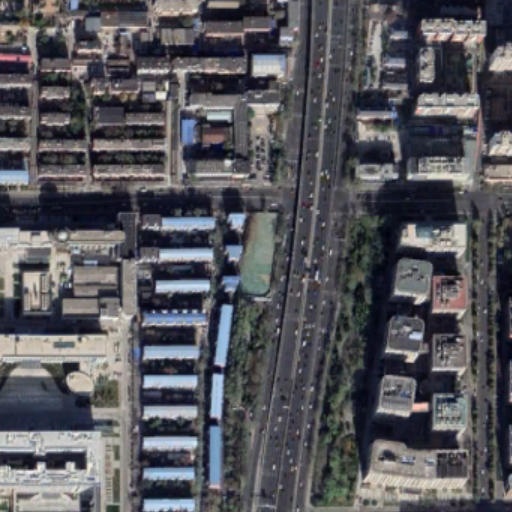cw: (239, 209, 279, 302)
